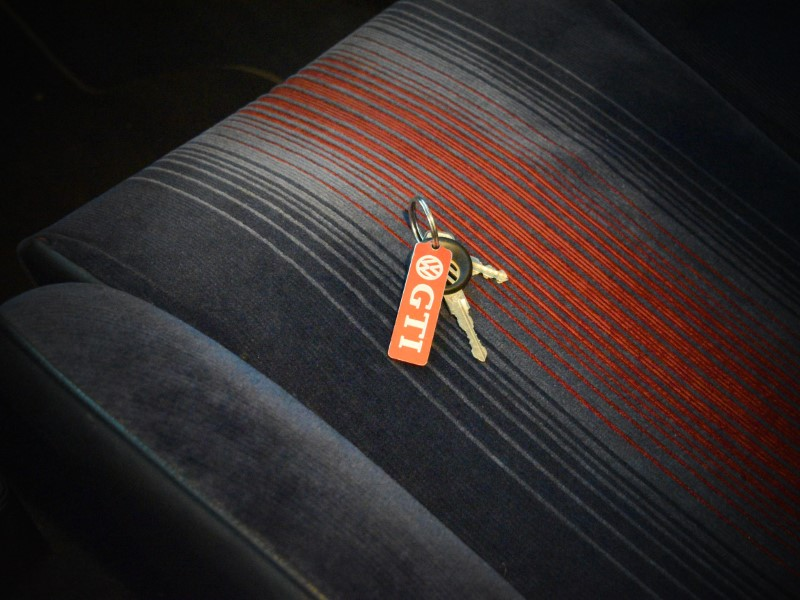carkey: (395, 195, 510, 367)
